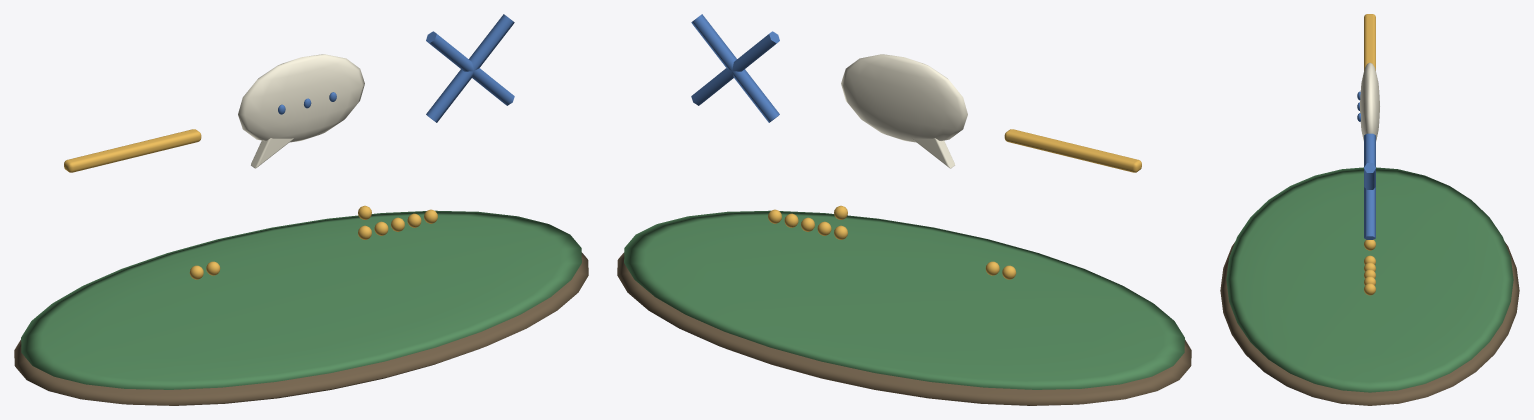
Rendered from complete-first-even-more-ribbons.glb.
The picture shows the model from 3 angles, left to right: view 1: azimuth 30°, elevation 25°; view 2: azimuth 150°, elevation 25°; view 3: azimuth 270°, elevation 25°; orthographic projection. The views are drawn at different scales.
Visible parts, largest first — view 1: complete-first-even-more-ribbons_surface_01, complete-first-even-more-ribbons_surface_00, complete-first-even-more-ribbons_surface_03, complete-first-even-more-ribbons_surface_02, complete-first-even-more-ribbons_surface_04; view 2: complete-first-even-more-ribbons_surface_01, complete-first-even-more-ribbons_surface_00, complete-first-even-more-ribbons_surface_03, complete-first-even-more-ribbons_surface_02, complete-first-even-more-ribbons_surface_04; view 3: complete-first-even-more-ribbons_surface_01, complete-first-even-more-ribbons_surface_00, complete-first-even-more-ribbons_surface_04, complete-first-even-more-ribbons_surface_03, complete-first-even-more-ribbons_surface_02.
Part boxes in pixels (left/top/right/bottom): complete-first-even-more-ribbons_surface_01: left=21, top=210, right=581, bottom=389; complete-first-even-more-ribbons_surface_00: left=14, top=252, right=588, bottom=405; complete-first-even-more-ribbons_surface_03: left=238, top=54, right=364, bottom=168; complete-first-even-more-ribbons_surface_02: left=64, top=129, right=437, bottom=279; complete-first-even-more-ribbons_surface_04: left=278, top=14, right=514, bottom=122; complete-first-even-more-ribbons_surface_01: left=624, top=210, right=1184, bottom=389; complete-first-even-more-ribbons_surface_00: left=617, top=252, right=1191, bottom=405; complete-first-even-more-ribbons_surface_03: left=841, top=54, right=967, bottom=168; complete-first-even-more-ribbons_surface_02: left=768, top=129, right=1141, bottom=279; complete-first-even-more-ribbons_surface_04: left=691, top=14, right=779, bottom=122; complete-first-even-more-ribbons_surface_01: left=1226, top=167, right=1513, bottom=392; complete-first-even-more-ribbons_surface_00: left=1220, top=241, right=1519, bottom=405; complete-first-even-more-ribbons_surface_04: left=1357, top=91, right=1375, bottom=239; complete-first-even-more-ribbons_surface_03: left=1360, top=62, right=1379, bottom=140; complete-first-even-more-ribbons_surface_02: left=1364, top=14, right=1375, bottom=295.
Bounding box in the file's own units: 4.56 × 2.16 × 2.5.
